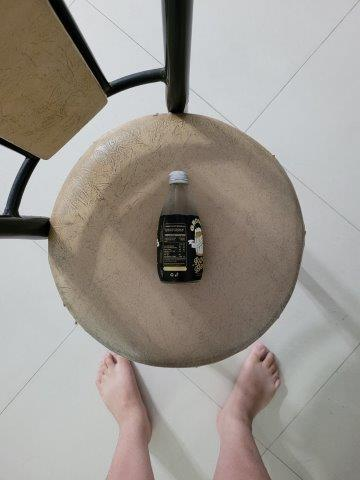botolkaca: (156, 171, 204, 281)
